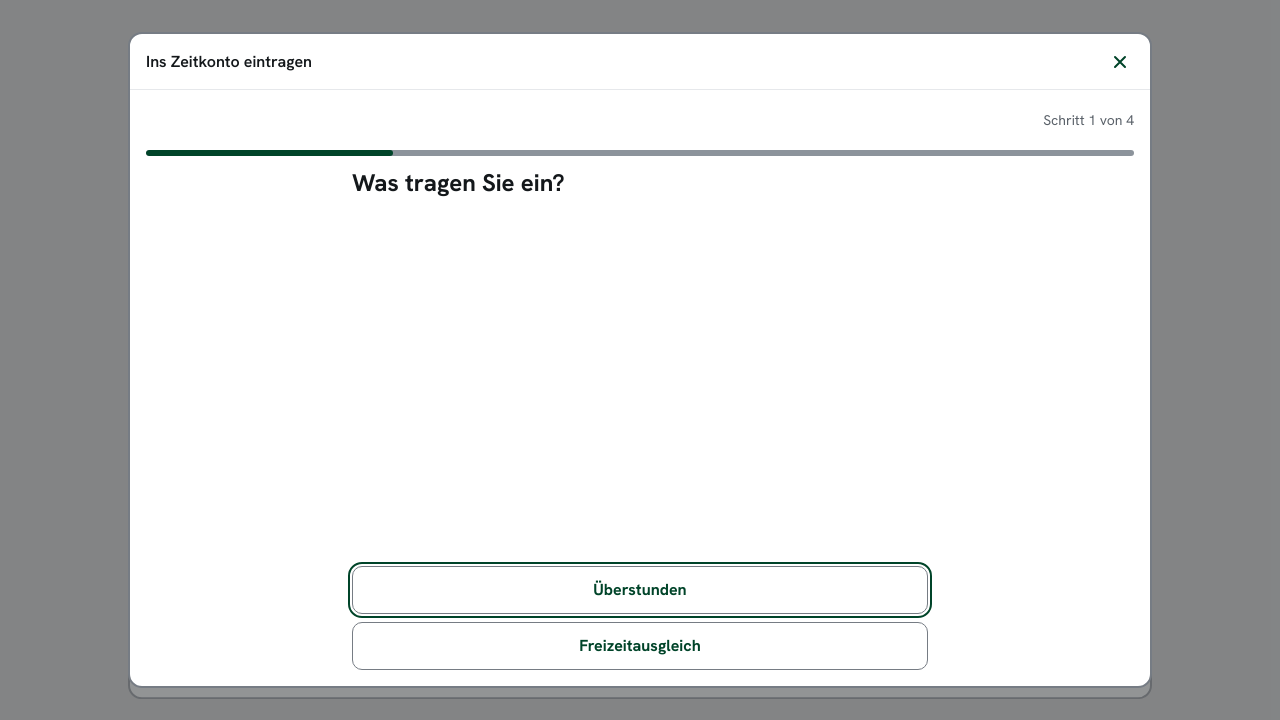
Test: RecordTimeAccountPage › ein Fehler der Vorschau ist nie „keine Termine“ - mit „Erneut versuchen“ (Regel 8)
What coordinates should you click on to do the following:
click the button "Freizeitausgleich"
I would click on:
 (640, 646)
Its box is [352,622,928,670].
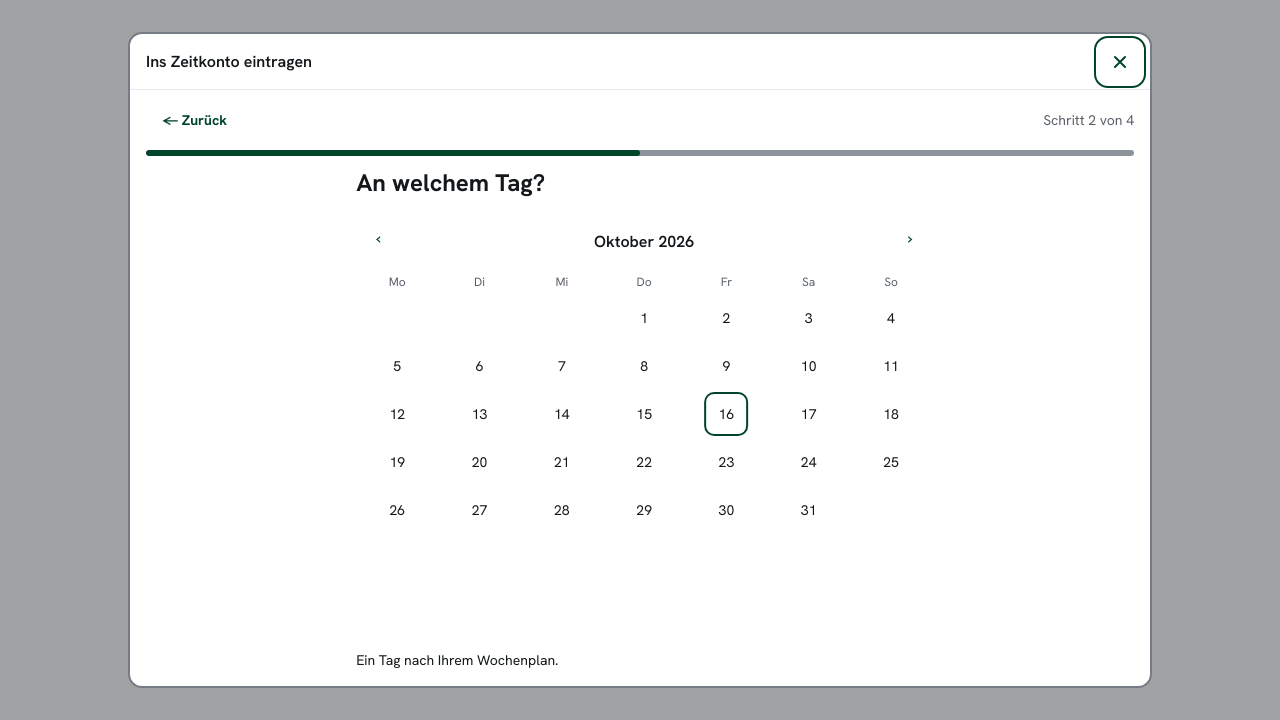
What coordinates should you click on to do the following:
click the button "20"
I would click on:
 (476, 462)
Its box is [454,440,498,484].
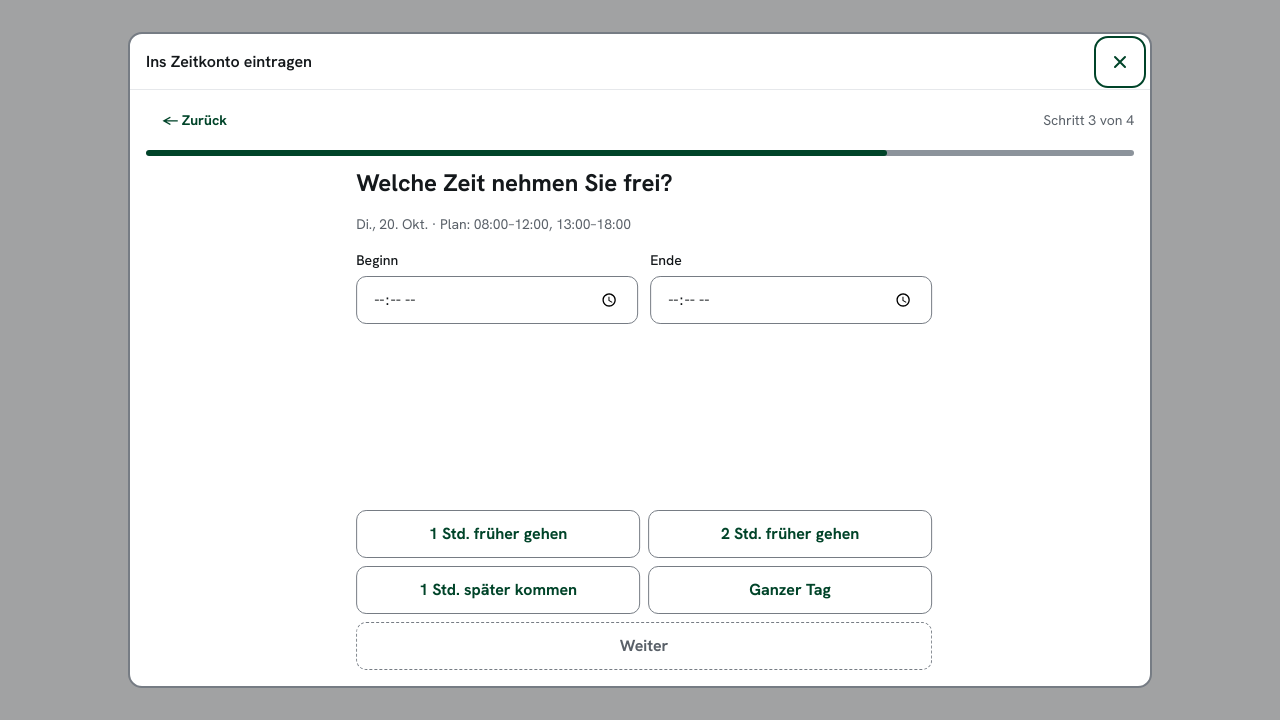
What coordinates should you click on to do the following:
click the button "2 Std. früher gehen"
I would click on:
 (786, 534)
Its box is [644,510,928,558].
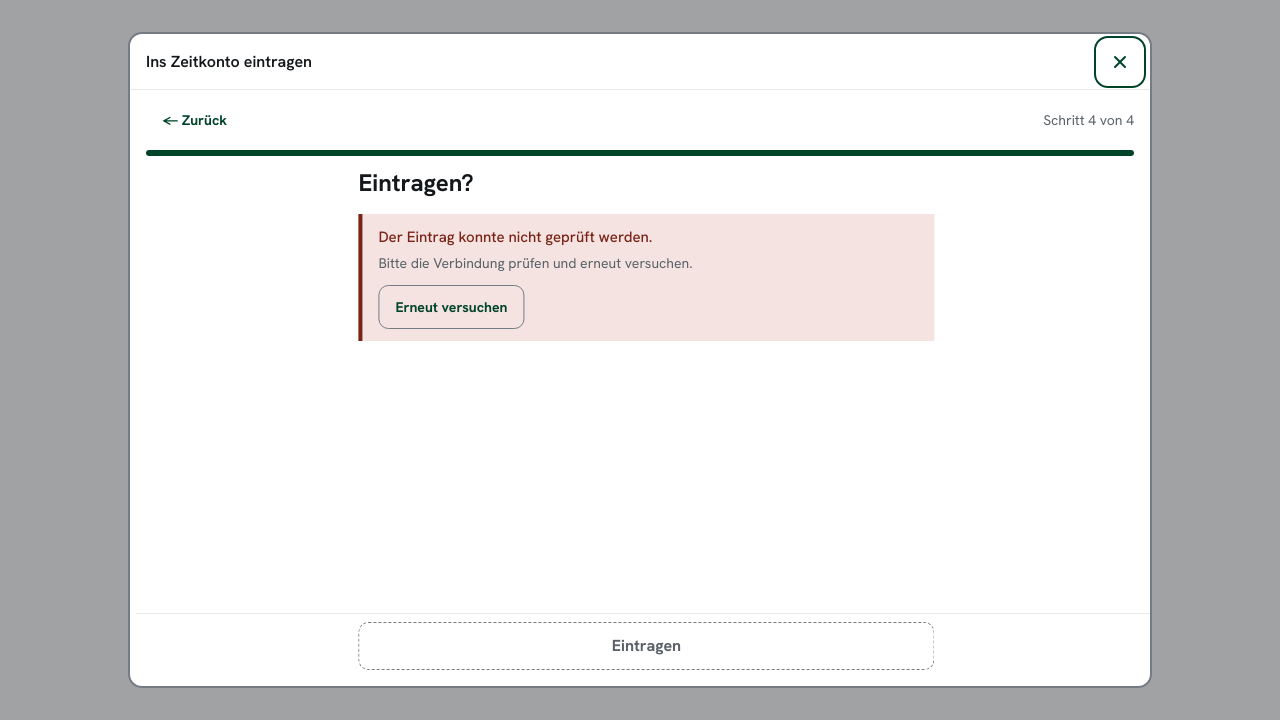
Expected: the text "Keine Termine" is not shown
Now the text "Der Eintrag konnte nicht geprüft werden." is shown, box [373,227,647,247]
Now the button "Eintragen" is disabled, box [353,622,929,670]
What coordinates should you click on to do the following:
click the button "Erneut versuchen"
I would click on:
 (446, 306)
Its box is [373,284,519,328].
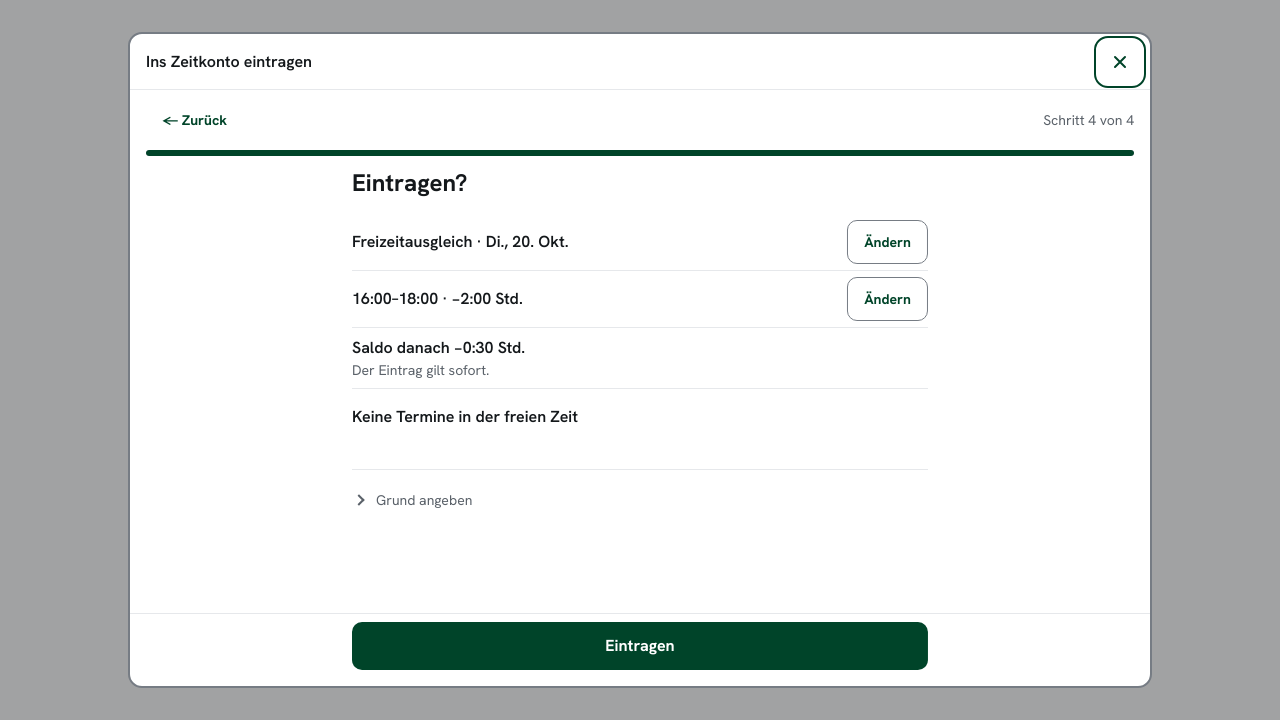
Now the text "Keine Termine in der freien Zeit" is shown, box [352,406,578,427]
Now the text "Saldo danach −0:30 Std." is shown, box [352,337,525,358]
Now the button "Eintragen" is enabled, box [352,622,928,670]
